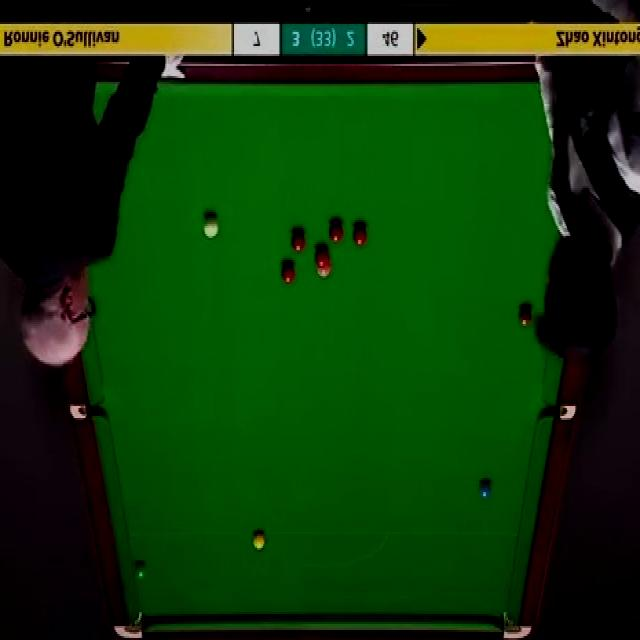pocket: (500, 608, 532, 640), (112, 611, 147, 640), (540, 403, 577, 422), (69, 402, 104, 422)
